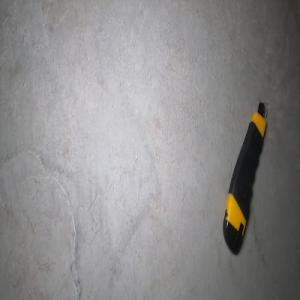Cutter: (222, 99, 267, 254)
